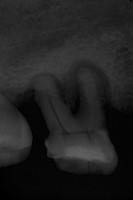Dental Caries: (32, 59, 112, 114)
